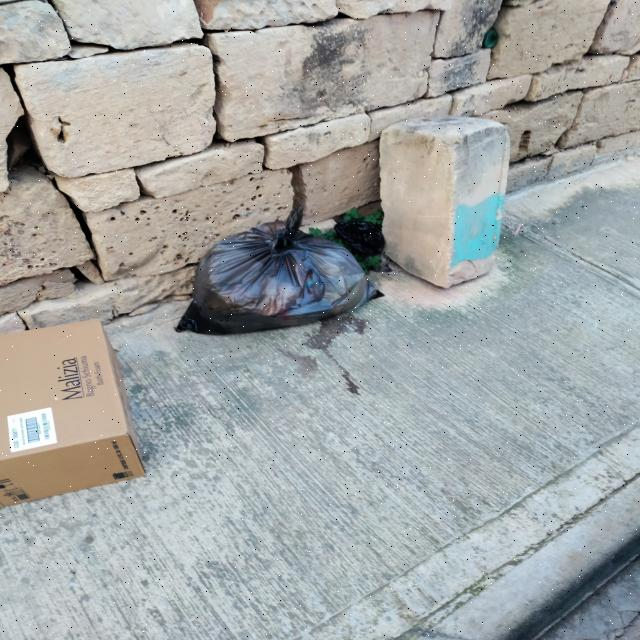Mixed Waste: (178, 208, 380, 334)
Other Waste: (0, 320, 145, 506)
